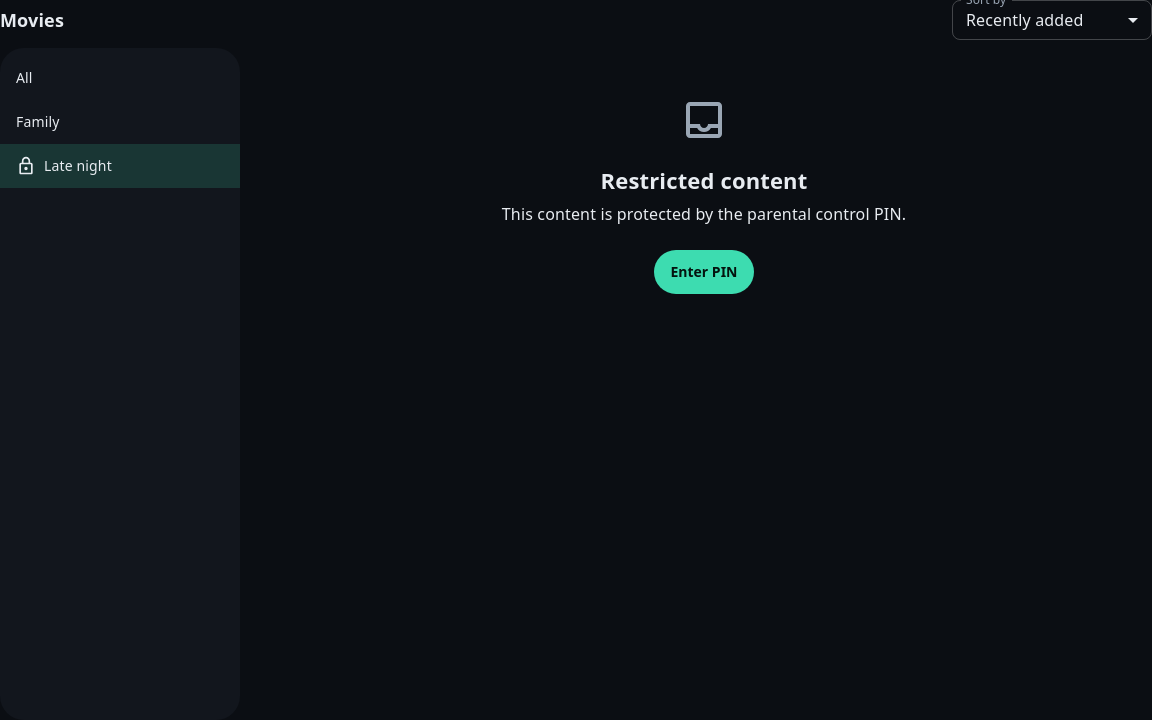
Scenario: SEC-03 — Movies › asks for the PIN before showing a restricted category; the right PIN shows it
Expected: the heading "Restricted content" is shown, [601,165,807,195]
Step 1. Click the button "Enter PIN" → (704, 272), box [654,250,754,294]
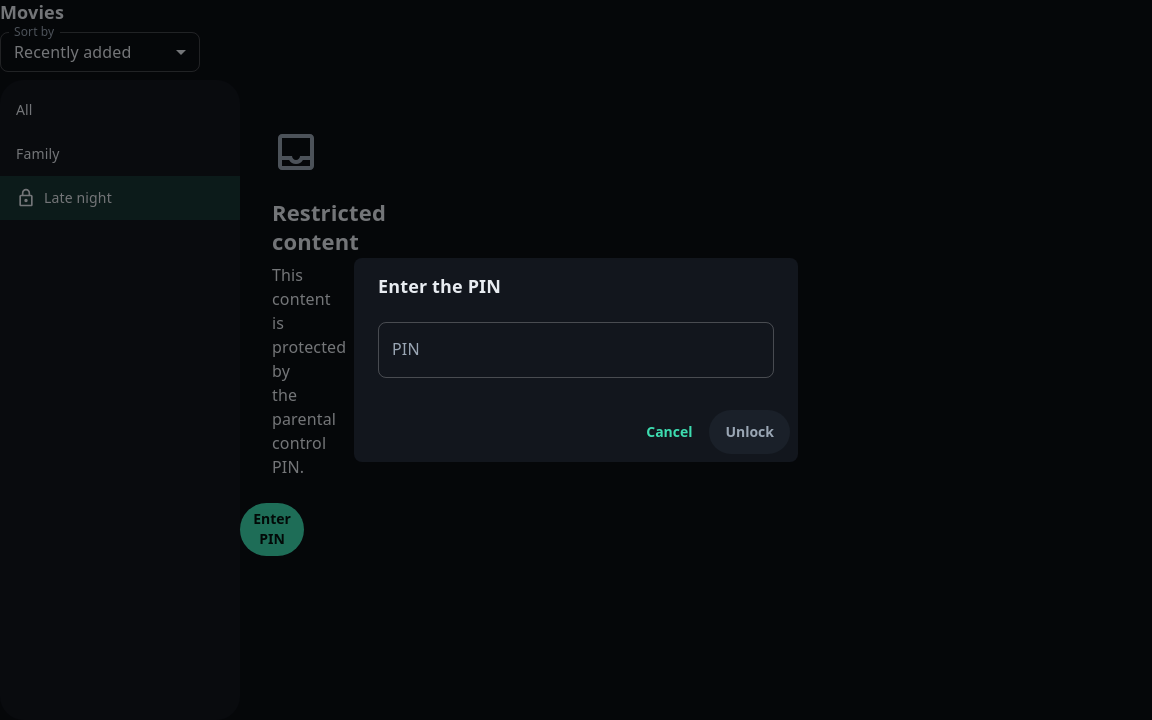
Step 2. Type "9999" into the password field labelled "PIN" → (576, 350), box [378,322,774,378]
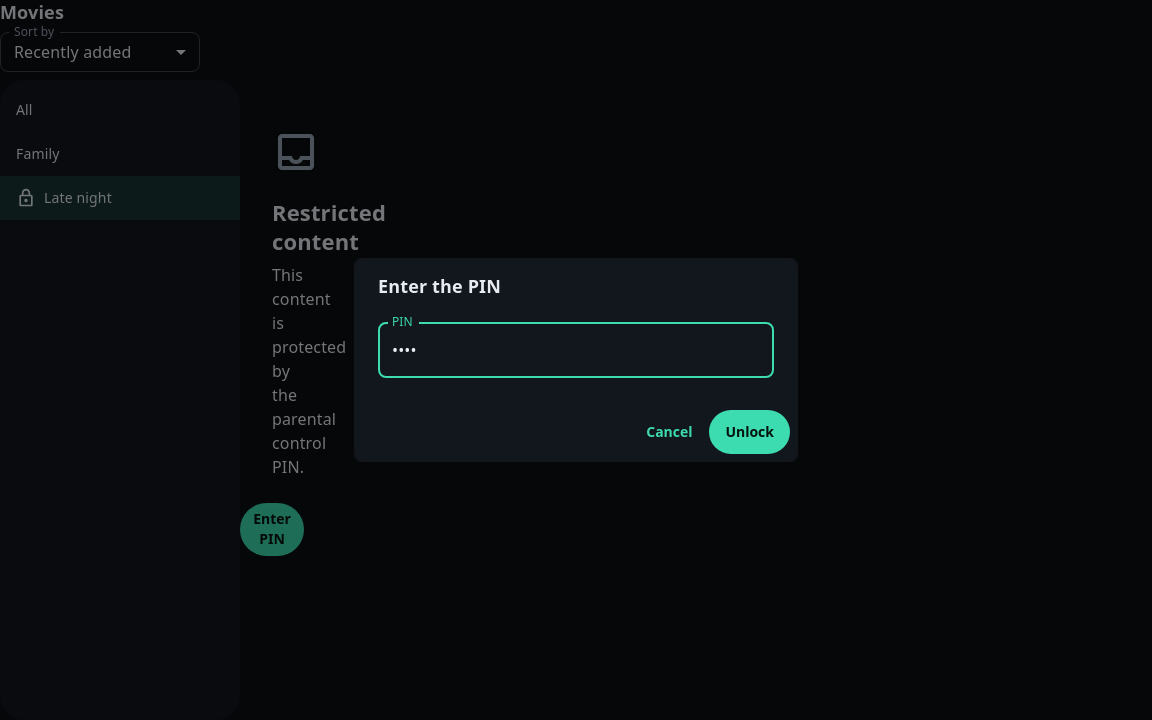
Step 3. Click the button "Unlock" → (750, 432), box [709,410,790,454]
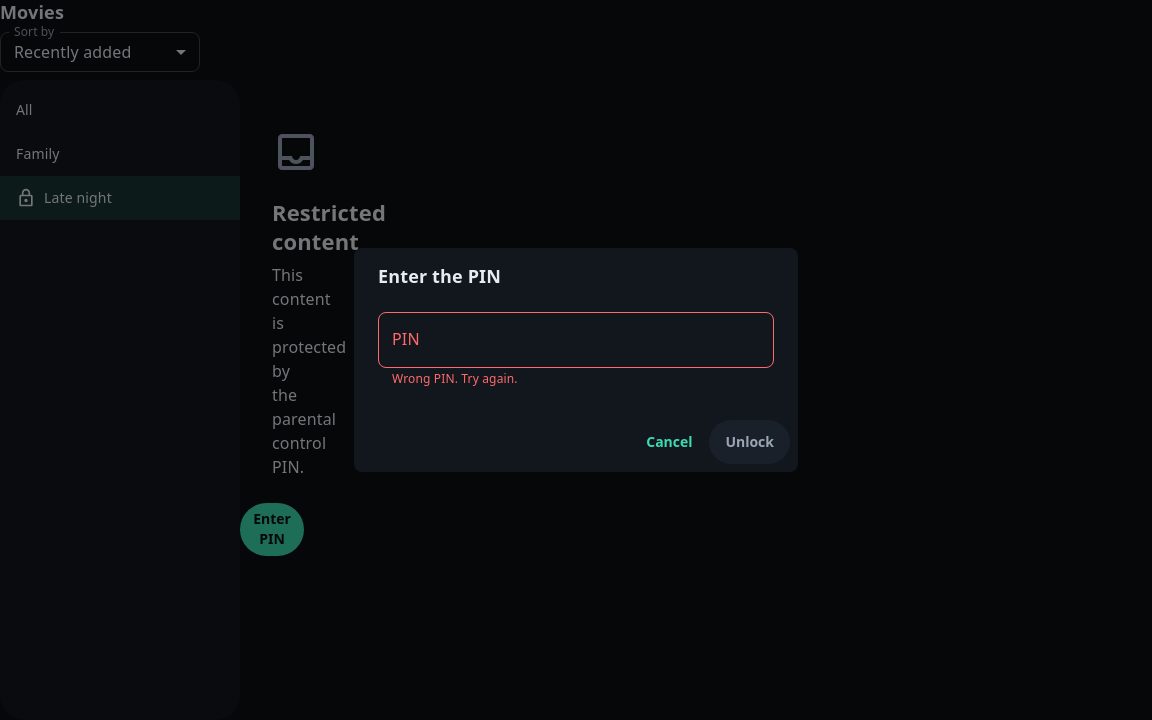
Now the text "Wrong PIN. Try again." is shown, box [392,370,518,387]
Step 4. Type "1234" into the password field labelled "PIN" → (576, 340), box [378,312,774,368]
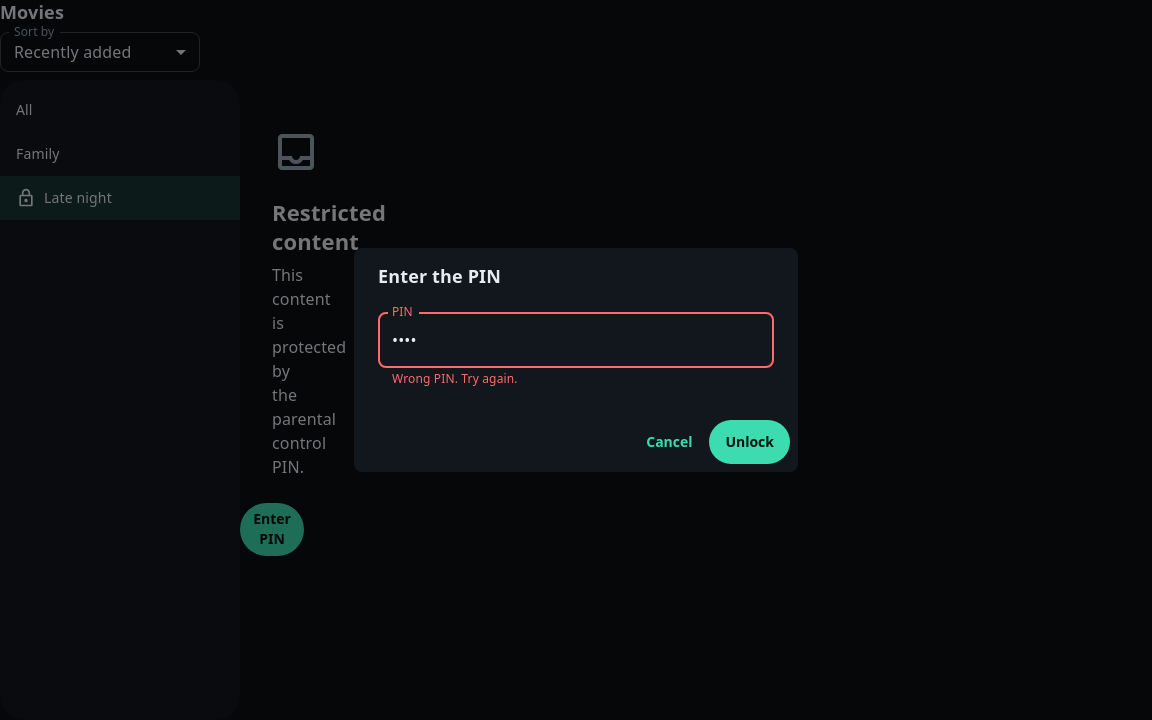
Step 5. Click the button "Unlock" → (750, 442), box [709,420,790,464]
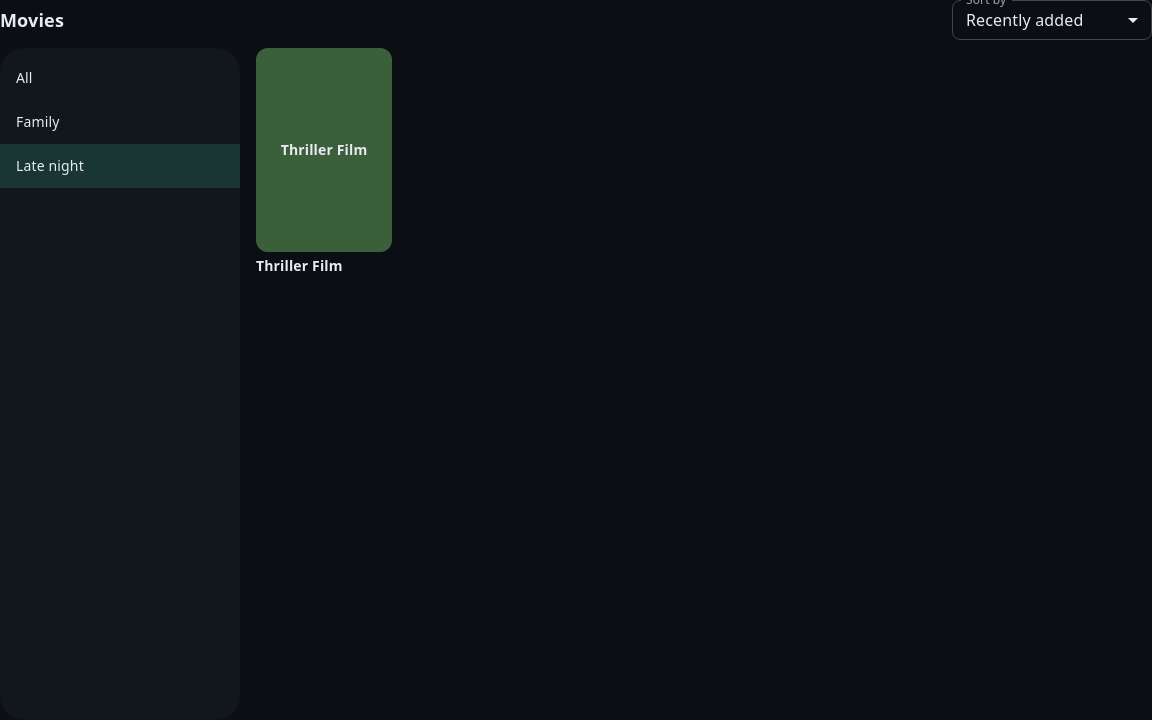
Expected: the link "Late night" is shown, [0,144,240,188]
Now the link "Thriller Film Thriller Film" is shown, box [256,48,392,276]
